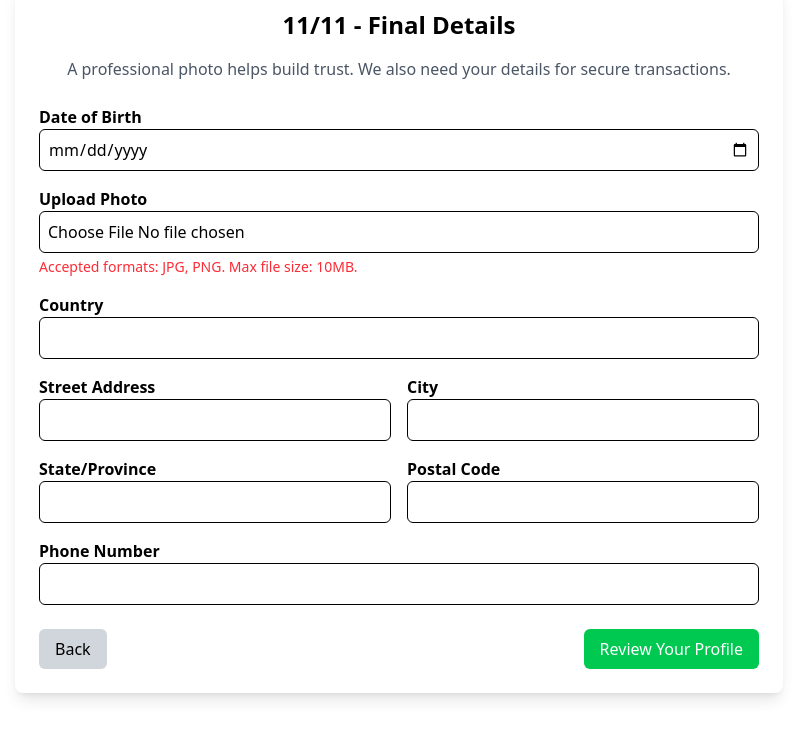
it: Step15 Component › validates the form and shows errors when fields are empty
Click the button "Review Your Profile". click: (671, 649)
box: [584,629,759,669]
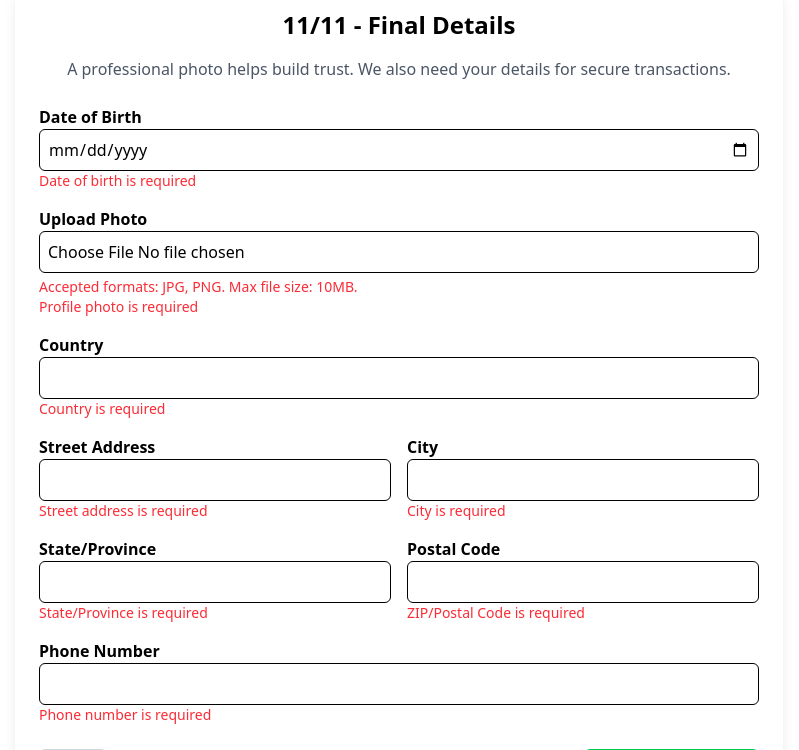
Result: the text "Date of birth is required" is shown at [39,171,196,190]
Result: the text "Country is required" is shown at [39,399,166,418]
Result: the text "Street address is required" is shown at [39,501,208,520]
